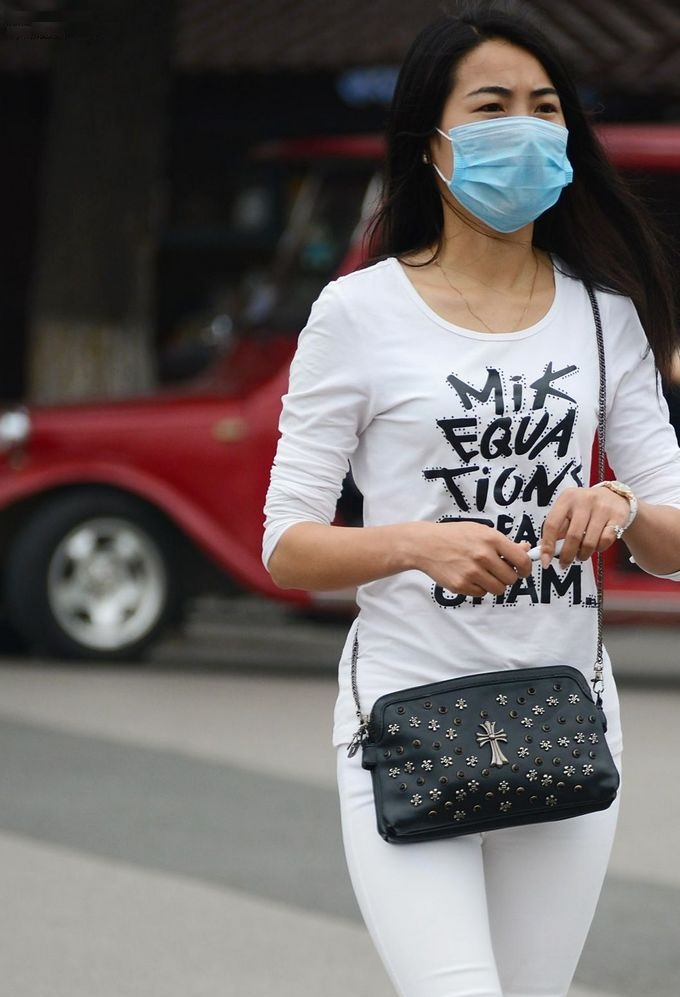face_mask: (440, 36, 566, 232)
